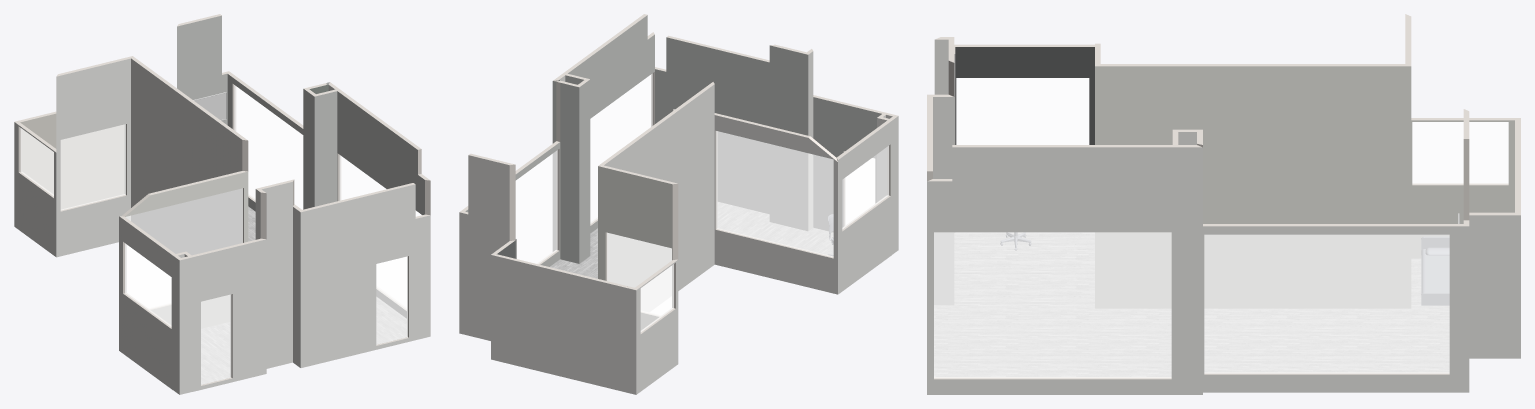
The model's file is WeightRoom.glb.
3 renders of one model, left to right at view 1: azimuth 30°, elevation 25°; view 2: azimuth 150°, elevation 25°; view 3: azimuth 270°, elevation 25°, orthographic. The views are drawn at different scales.
Visible parts, largest first — view 1: wall_17, wall_23, wall_1, wall_20, wall_38, wall_50, wall_19, window_3, wall_15, window_9, window_5, window_11 (+33 smaller); view 2: wall_7, wall_23, window_3, window_9, wall_58, wall_22, wall_9, wall_62, wall_26, wall_15, wall_50, wall_64 (+30 smaller); view 3: wall_70, window_0, window_6, window_5, window_11, floor_Other_1, wall_13, wall_18, floor_Other_2, window_2, window_8, wall_4 (+16 smaller).
Part boxes in pixels (x1,y1,x2,y2): wall_17: (300,184,430,367); wall_23: (131,58,242,254); wall_1: (56,58,130,257); wall_20: (192,239,266,391); wall_38: (20,113,124,209); wall_50: (337,91,424,318); wall_19: (262,182,292,368); window_3: (126,188,242,254); wall_15: (119,216,172,389); window_9: (126,188,242,254); window_5: (234,85,302,209); window_11: (234,85,302,209); wall_7: (491,255,636,394); wall_23: (604,84,714,290); window_3: (716,131,833,256); window_9: (716,131,833,256); wall_58: (655,37,769,213); wall_22: (459,155,509,340); wall_9: (714,115,837,294); wall_62: (769,45,808,230); wall_26: (598,166,672,329); wall_15: (838,121,892,294); wall_50: (568,15,654,233); wall_64: (813,97,881,231); wall_70: (1095,66,1411,308); window_0: (934,232,1171,377); window_6: (934,232,1171,377); window_5: (1204,235,1449,373); window_11: (1204,235,1449,373); floor_Other_1: (934,304,1449,376); wall_13: (927,147,1175,394); wall_18: (1203,226,1469,392); floor_Other_2: (954,232,1094,303); window_2: (956,78,1088,144); window_8: (956,78,1088,144); wall_4: (1469,215,1520,358).
Bounding box in the file's own units: 6.71 × 4.66 × 10.14.
Materials: 58 (4 with a texture image).
